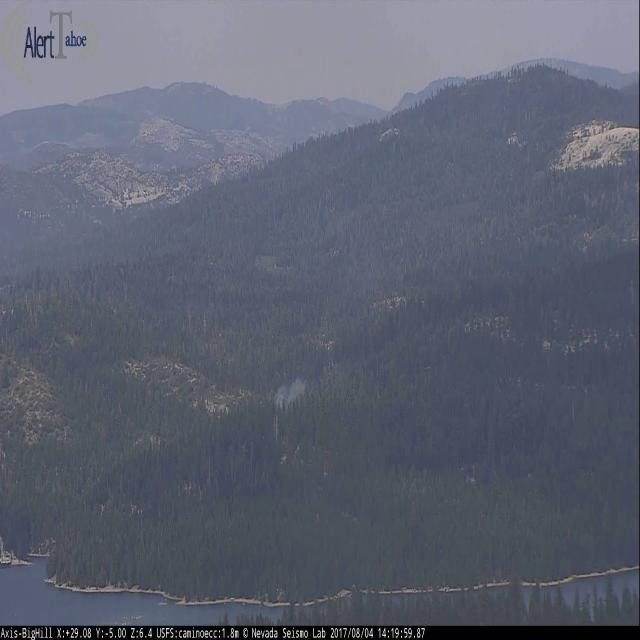smoke: (268, 372, 313, 414)
